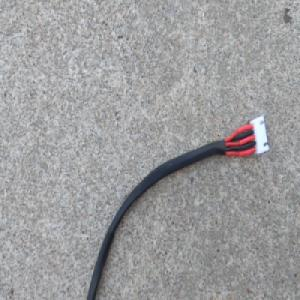Wire: (84, 112, 270, 300)
